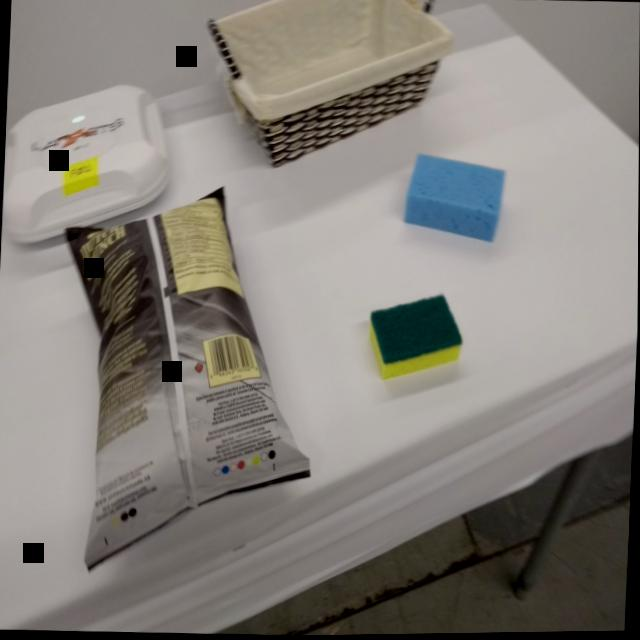potato_chips: (48, 174, 326, 583)
scrubby: (365, 286, 471, 389)
sponge_opl: (397, 151, 513, 248)
